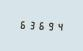four: (54, 20, 62, 32)
nine: (45, 20, 53, 31)
six: (18, 18, 26, 30), (36, 19, 44, 31)
three: (27, 19, 35, 30)
